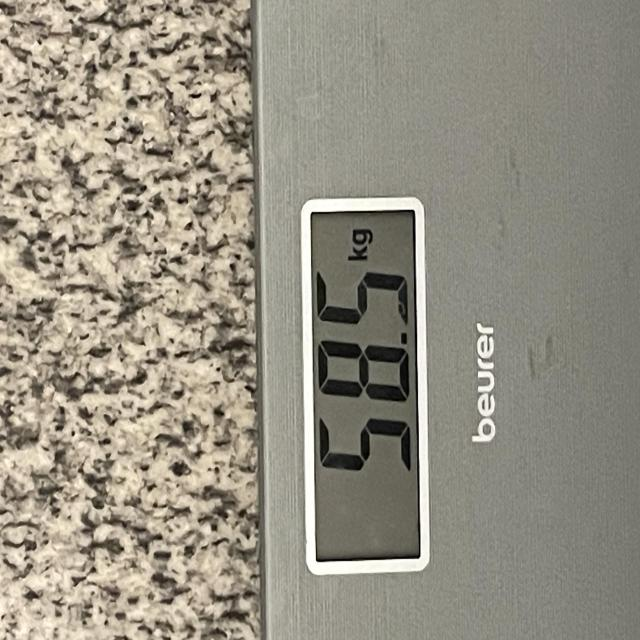ws: (251, 0, 640, 640)
